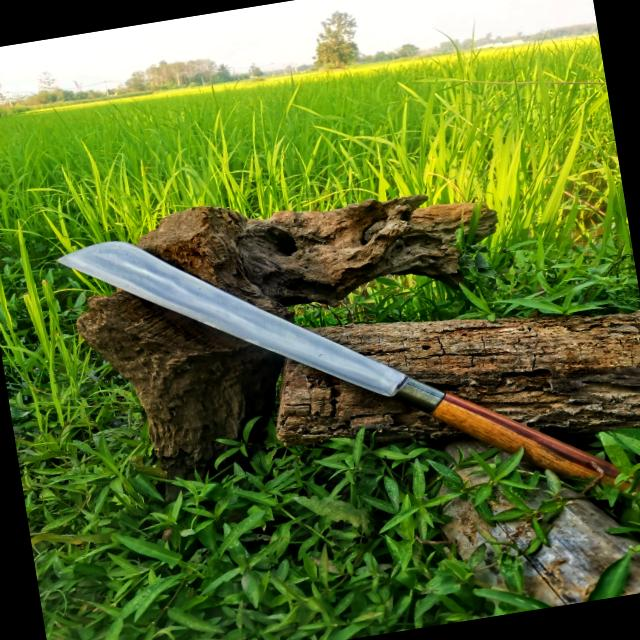eto: (40, 231, 636, 503)
